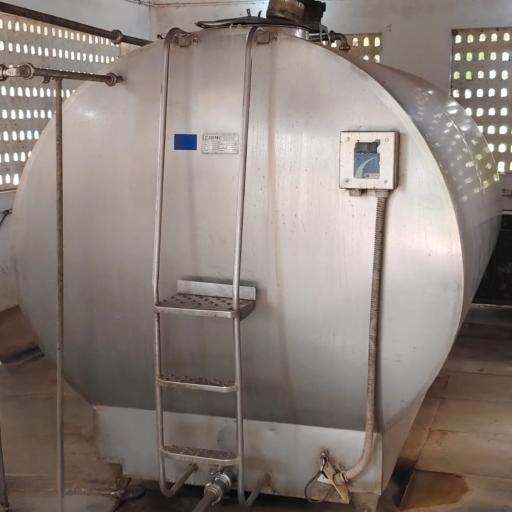silo: (7, 14, 507, 493)
